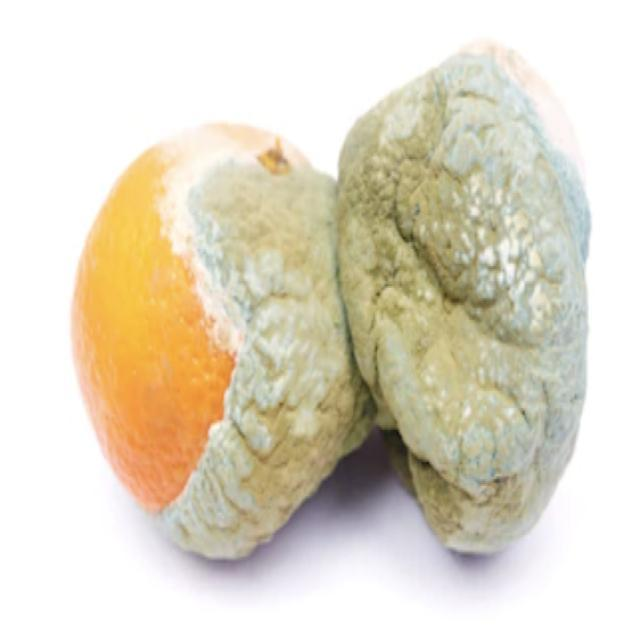sangat-busuk: (73, 124, 374, 558), (339, 47, 589, 552)
